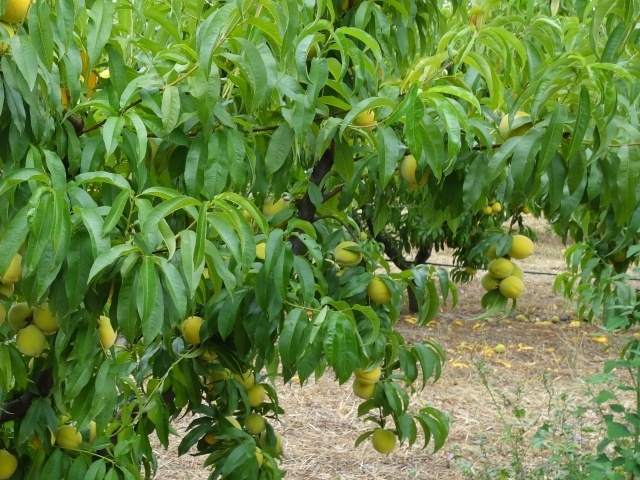peach: (398, 153, 436, 194), (494, 105, 534, 139), (16, 321, 47, 362), (30, 297, 65, 333), (179, 311, 210, 348), (92, 311, 120, 350), (6, 297, 35, 334), (333, 237, 366, 269), (55, 422, 86, 455), (505, 231, 536, 264), (365, 273, 397, 304), (371, 424, 398, 458), (497, 273, 527, 303), (260, 197, 292, 225), (231, 362, 258, 392), (357, 105, 382, 137), (356, 359, 384, 387), (485, 254, 514, 281), (351, 375, 377, 402), (244, 410, 268, 438), (245, 381, 268, 409), (1, 450, 22, 479), (478, 270, 502, 295)
